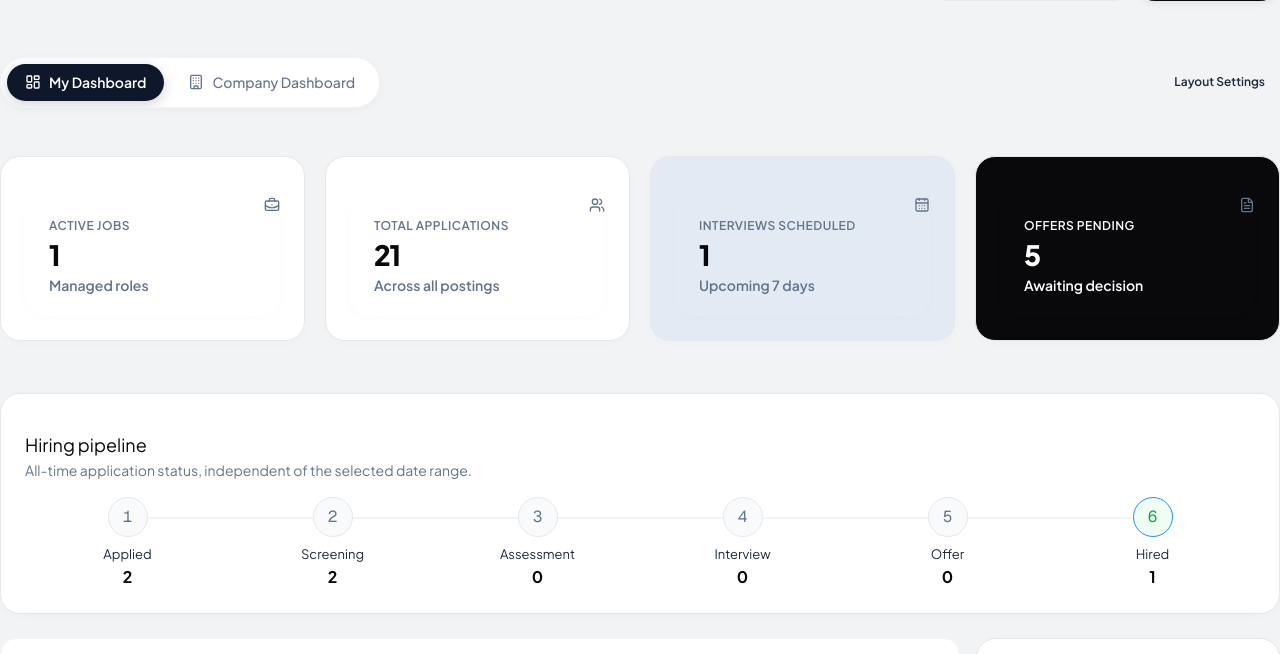
rendered organization dashboard › switches tabs to Company Dashboard and renders company overview metrics and team summary
What coordinates should you click on to do the following:
click the tab "Company Dashboard"
I would click on:
 (272, 82)
Its box is x1=170 y1=64 x2=373 y2=100.
(page scrolled)
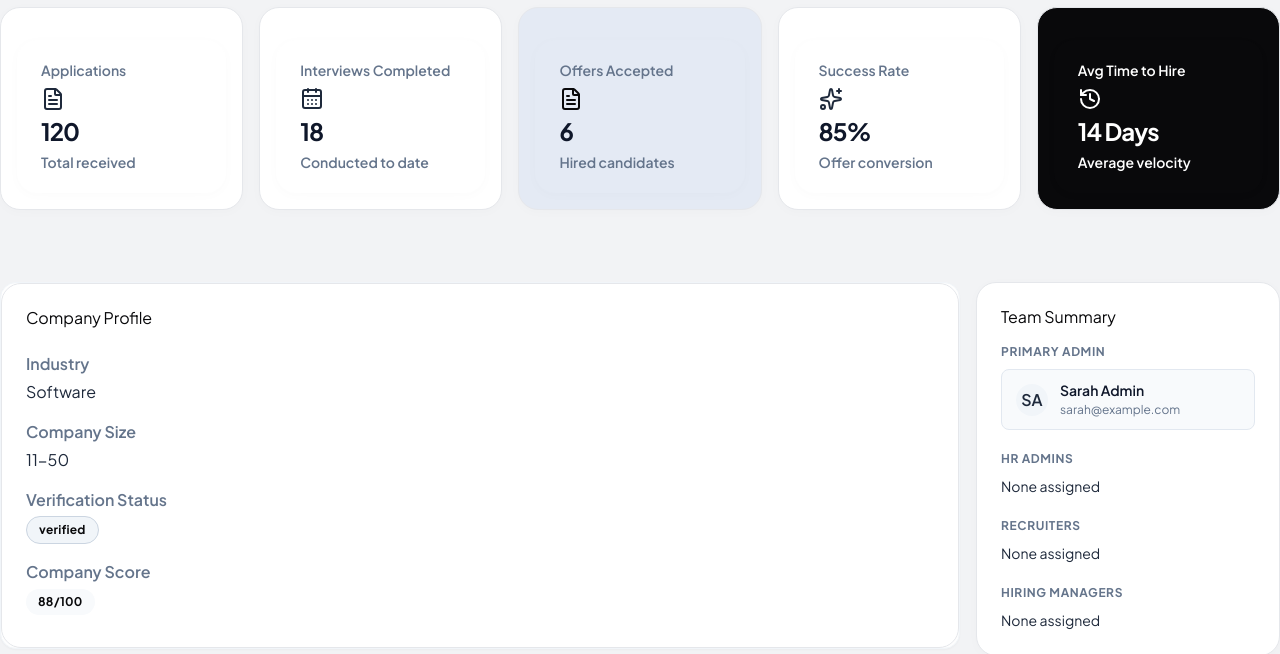
Check: the text "Sarah Admin" is shown, box x1=1060 y1=381 x2=1144 y2=399
Check: the text "sarah@example.com" is shown, box x1=1060 y1=401 x2=1180 y2=419
Check: the text "Software" is shown, box x1=26 y1=381 x2=96 y2=402
